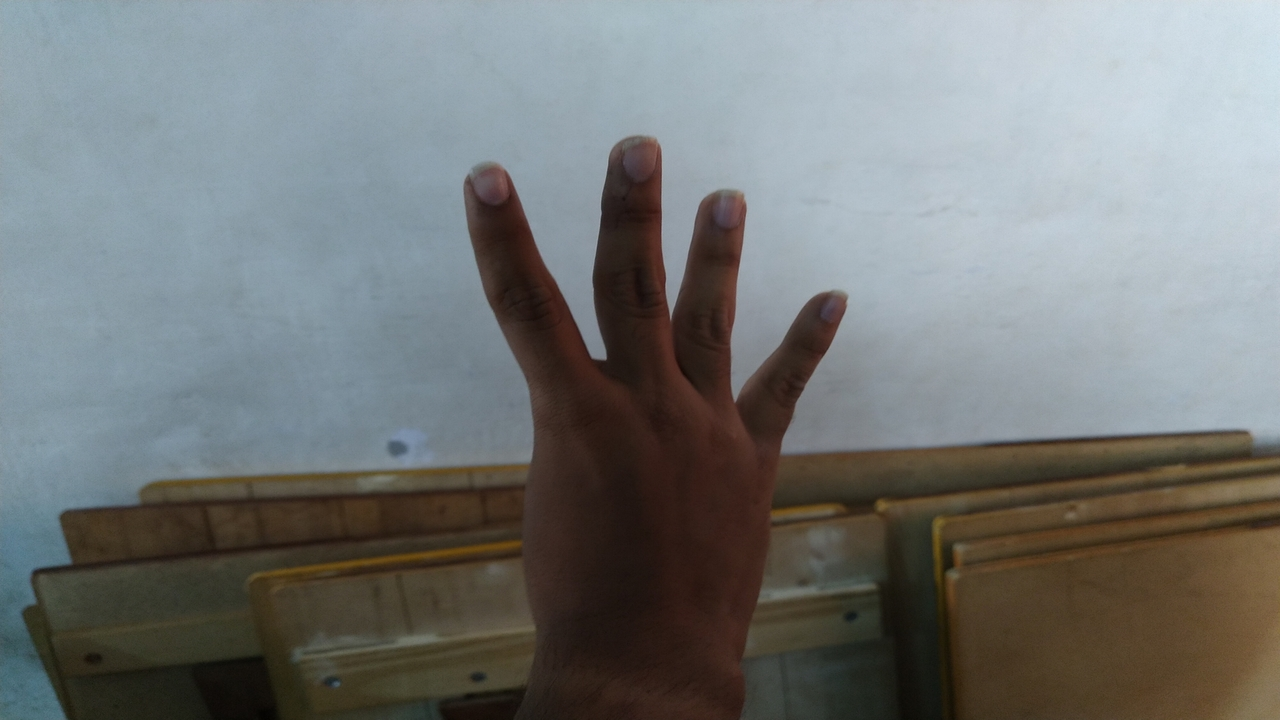fingertip: (598, 136, 666, 194), (458, 160, 524, 218), (692, 184, 752, 244), (800, 284, 860, 334)
